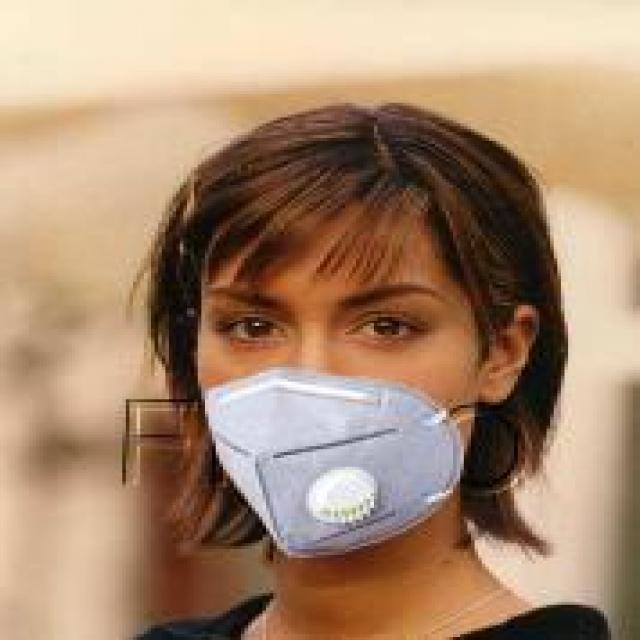mask: (119, 82, 586, 576)
